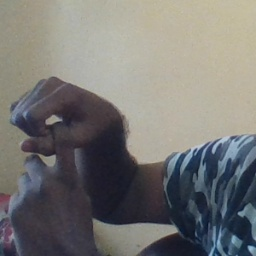Q: (5, 73, 113, 237)
